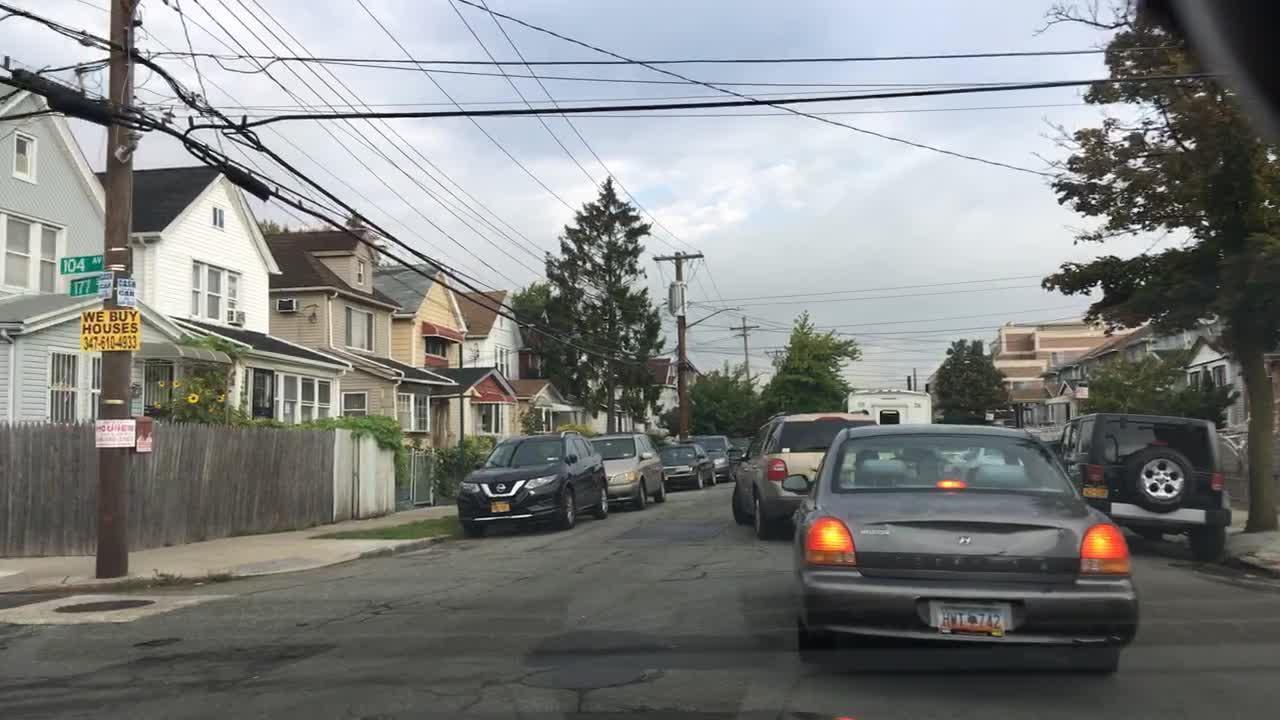Hyundai: (952, 530, 980, 555)
Nissan: (494, 480, 509, 495)
